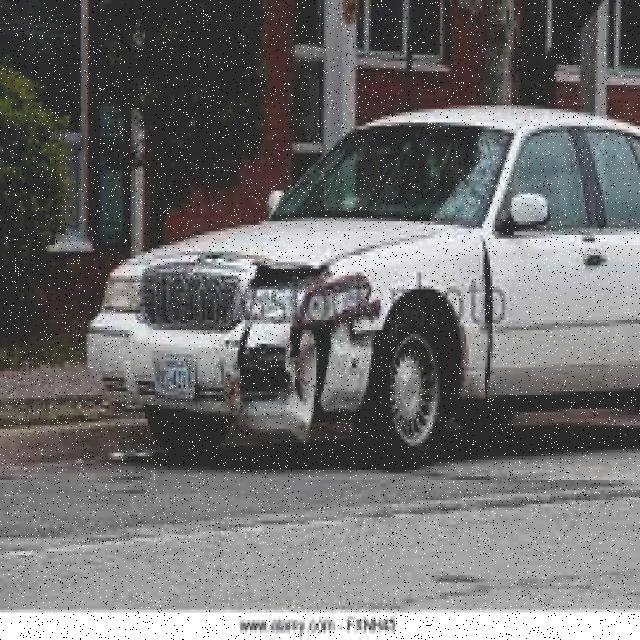car damage: (222, 229, 505, 442)
